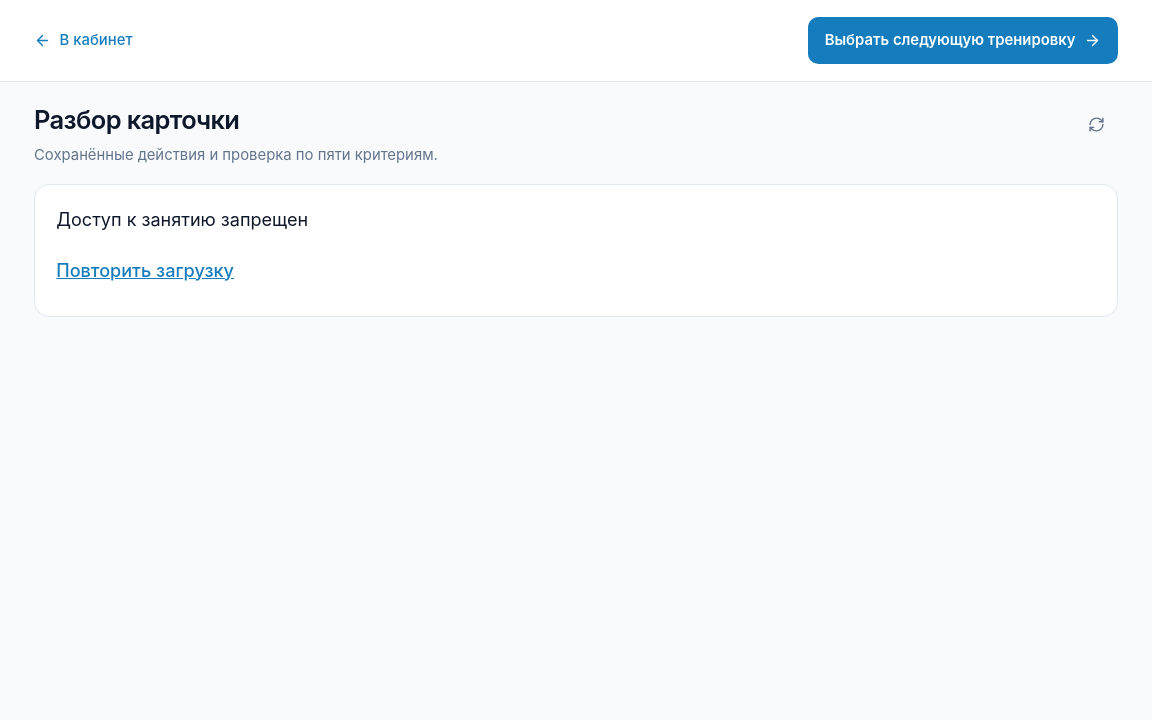
Test: shows a 403 failure without stale or fabricated results and supports retry
Expected: the message "Доступ к занятию запрещен Повторить загрузку" is shown, [34,184,1118,317]
Expected: the text "Не оценено" is not shown
Step 1. Click the button "Повторить загрузку" → (145, 271), box [56,248,234,294]
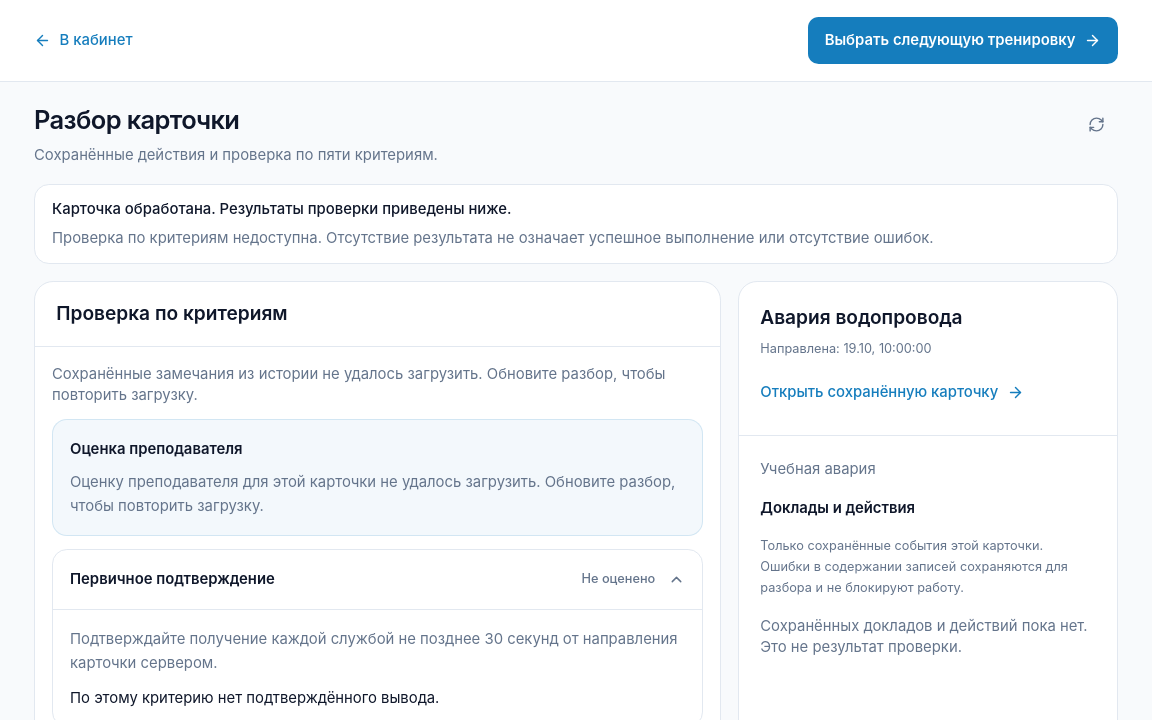
Now the text "Проверка по критериям недоступна" is shown, box [52,229,934,247]
